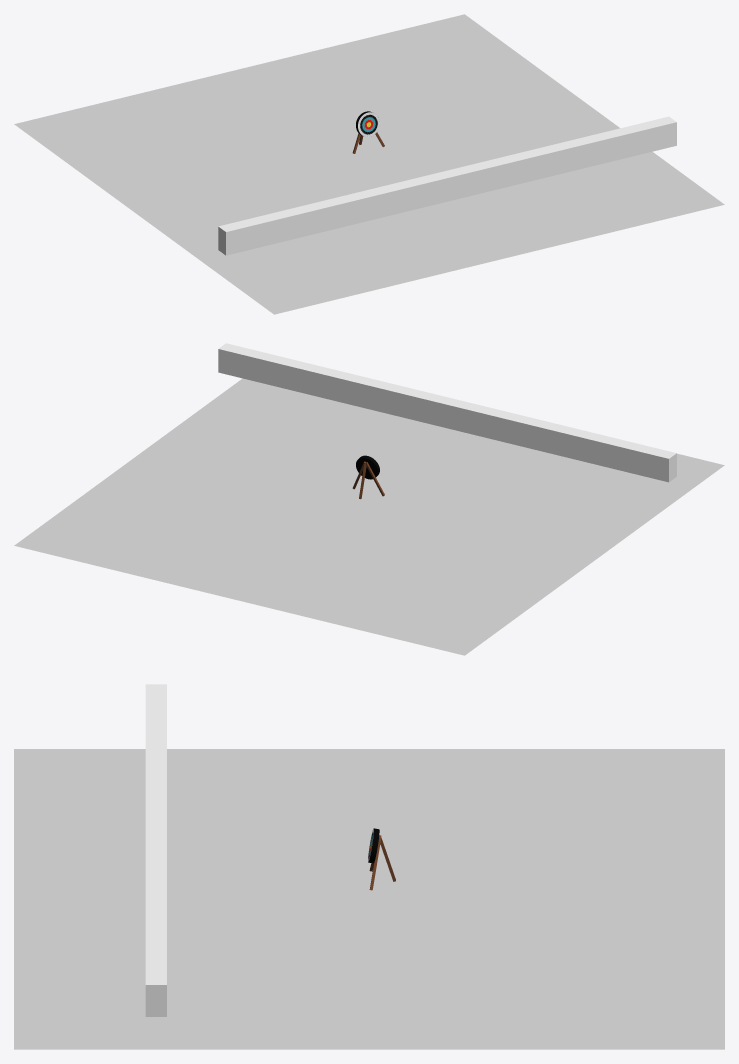
File: range.gltf
3 renders of one model, top to bottom at view 1: azimuth 30°, elevation 25°; view 2: azimuth 150°, elevation 25°; view 3: azimuth 270°, elevation 25°, orthographic. The views are drawn at different scales.
Visible parts, largest first — view 1: ground, block, Target; view 2: ground, block, Target; view 3: ground, block, Target.
Boxes of the visible parts, x1=… form: ground: x1=14, y1=14, x2=724, y2=314; block: x1=218, y1=116, x2=676, y2=255; Target: x1=352, y1=111, x2=384, y2=153; ground: x1=14, y1=378, x2=724, y2=655; block: x1=218, y1=343, x2=676, y2=482; Target: x1=352, y1=455, x2=384, y2=499; ground: x1=14, y1=749, x2=724, y2=1049; block: x1=145, y1=684, x2=166, y2=1016; Target: x1=368, y1=828, x2=395, y2=890.
Size of the model in its own units: 20 by 2.15 by 20.
5 materials, 1 textured.
